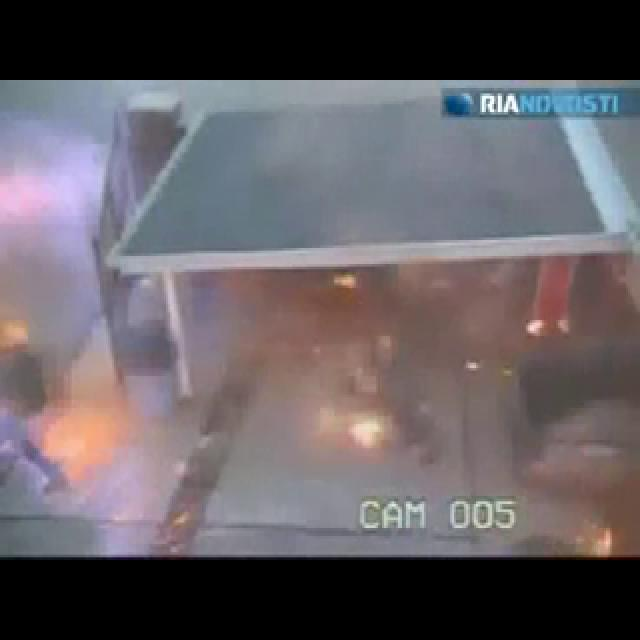explosion: (0, 85, 269, 544)
